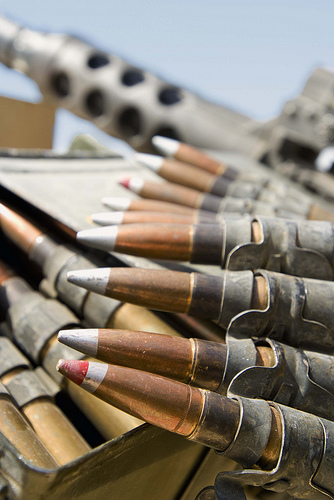rifle: (25, 43, 327, 489)
